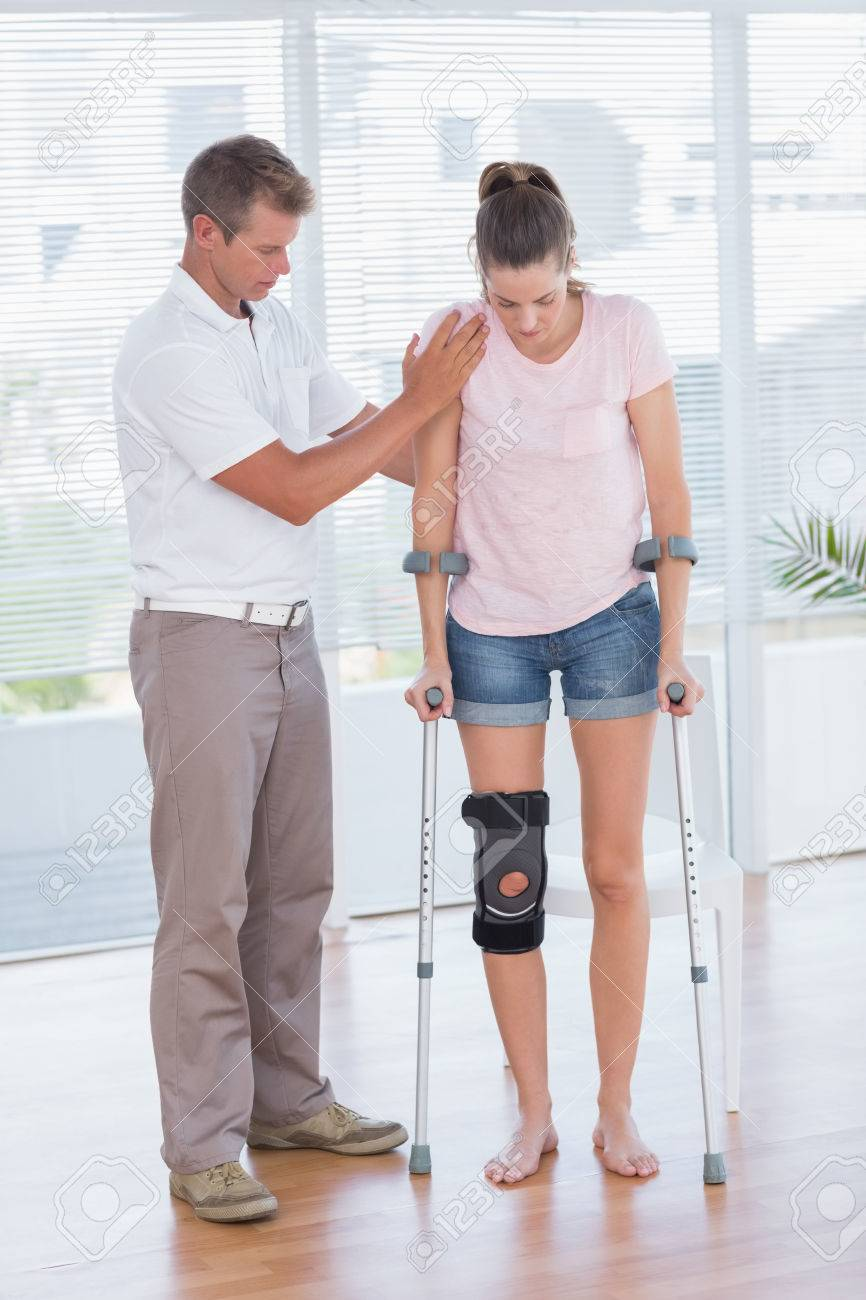crutches: (402, 159, 730, 1190)
